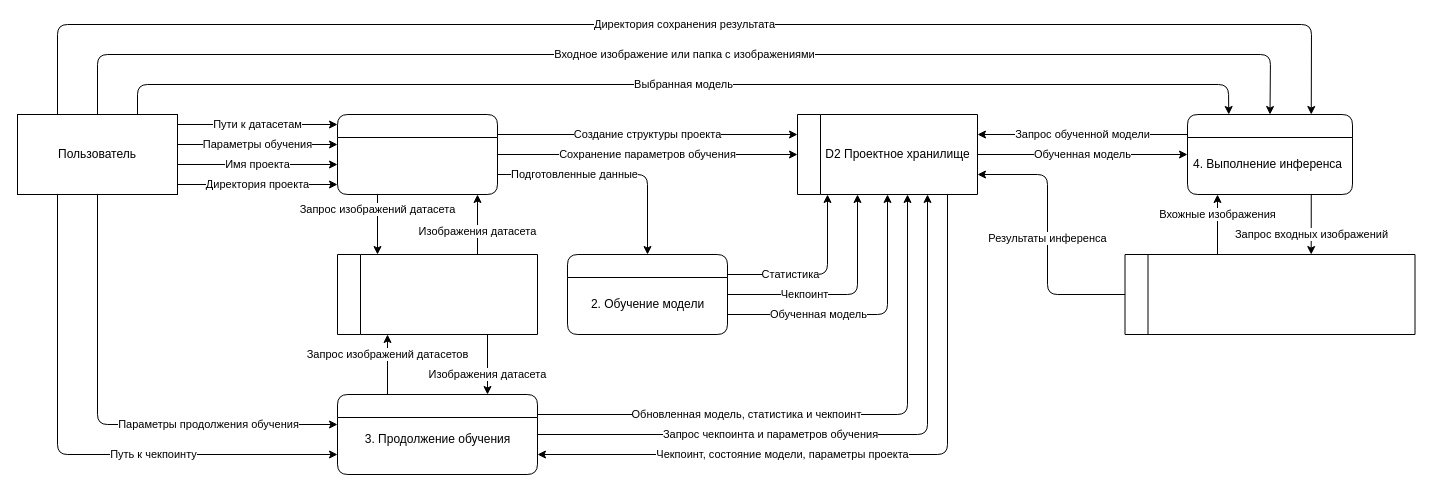
The diagram is 1433 pixels wide and 492 high, and some of its shapes have lost their labels. The shapes that lost their labels are listed below. From the top down, each one's centre as x and y in pixels, then its label:
point 417,154: 1. Подготовка данных
point 437,294: D1 Датасеты изображений
point 1269,294: D3 Хранилище изображений для инференса
